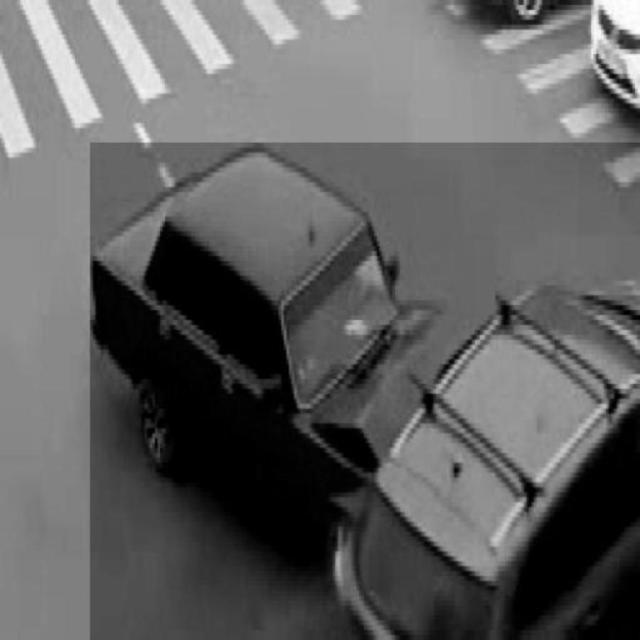accident: (90, 143, 640, 640)
